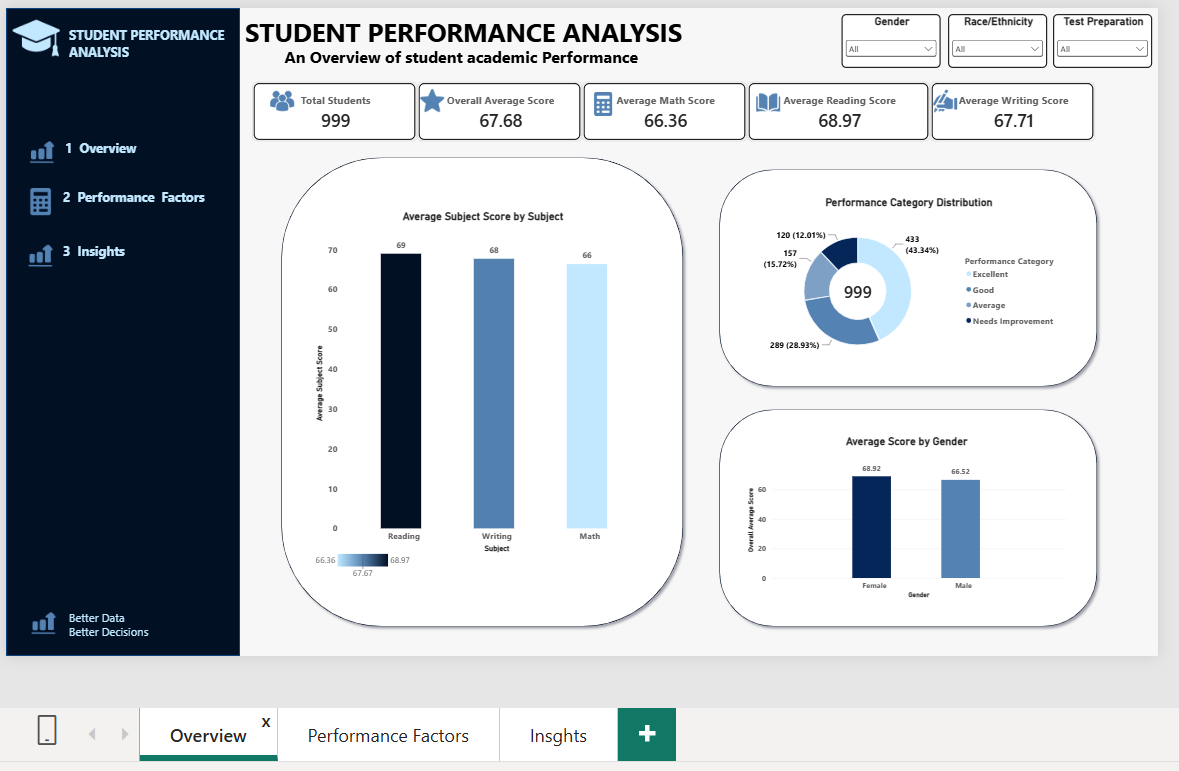

Layout of this report page (visuals, bound fields, positions):
{"tool":"powerbi","page":{"name":"Overview","canvas":[1920,1080],"ordinal":0},"visuals":[{"type":"shape","box":[1180.1,260,647.5,380],"z":0},{"type":"shape","box":[1180,660,647.5,380],"z":1000},{"type":"shape","box":[450,240,687.5,800],"z":2000},{"type":"cardVisual","fields":{"Data":["Students.Total Students"]},"box":[410,122.5,275,100],"z":3000},{"type":"cardVisual","fields":{"Data":["Students.Overall Average Score"]},"box":[685,122.5,275,100],"z":4000},{"type":"cardVisual","fields":{"Data":["Students.Average Math Score"]},"box":[960,122.5,275,100],"z":5000},{"type":"cardVisual","fields":{"Data":["Students.Average Reading Score"]},"box":[1235,122.5,305,100],"z":6000},{"type":"cardVisual","fields":{"Data":["Students.Average Writing Score"]},"box":[1540,122.5,275,100],"z":7000},{"type":"textbox","box":[290,0,945,122.5],"z":8000},{"type":"clusteredColumnChart","fields":{"Category":["Subjects.Subject"],"Y":["Students.Average Subject Score"]},"box":[500,322.5,590,642.5],"z":9000},{"type":"clusteredColumnChart","title":"Average Score by Gender","fields":{"Category":["Students.Gender"],"Y":["Students.Overall Average Score"]},"box":[1220,697.5,562.5,302.5],"z":10000},{"type":"donutChart","title":"Performance Category Distribution","fields":{"Category":["Students.Performance Category"],"Y":["Students.Total Students"]},"box":[1225,300,560,310],"z":11000},{"type":"shape","box":[0,0,390,1080],"z":12000},{"type":"image","box":[0,5,100,90],"z":13000},{"type":"textbox","box":[105,30,267.5,142.5],"z":14000},{"type":"slicer","title":"Gender","fields":{"Values":["Students.Gender"]},"box":[1392.5,10,165,90],"z":15000},{"type":"slicer","title":"Race/Ethnicity","fields":{"Values":["Students.Race/Ethnicity"]},"box":[1570,10,165,90],"z":16000},{"type":"slicer","title":"Test Preparation","fields":{"Values":["Students.Test Preparation Curse"]},"box":[1745,10,165,90],"z":17000},{"type":"textbox","box":[105,1002.5,267.5,57.5],"z":18000},{"type":"image","box":[15,300,85,45],"z":19000},{"type":"image","box":[27.5,217.5,65,45],"z":20000},{"type":"image","box":[30,1002.5,65,45],"z":21000},{"type":"image","box":[25,390,65,45],"z":22000},{"type":"textbox","box":[95,300,277.5,60],"z":23000},{"type":"textbox","box":[95,390,195,45],"z":24000},{"type":"textbox","box":[92.5,217.5,297.5,82.5],"z":25000},{"type":"image","box":[435,135,50,40],"z":25001},{"type":"image","box":[685,135,50,40],"z":25002},{"type":"image","box":[970,140,50,40],"z":25003},{"type":"image","box":[1540,135,50,40],"z":25004},{"type":"image","box":[1245,137.5,50,40],"z":25005}]}

Visuals, with their boxes on the page's 1920x1080 design canvas (x1, y1, x2, y2). These are canvas units, not pixel positions in the 1179x771 screenshot, which may show the page scaled, cropped or inside an application window:
shape: {"left": 1180, "top": 260, "right": 1828, "bottom": 640}
shape: {"left": 1180, "top": 660, "right": 1828, "bottom": 1040}
shape: {"left": 450, "top": 240, "right": 1138, "bottom": 1040}
cardVisual - Students.Total Students: {"left": 410, "top": 122, "right": 685, "bottom": 222}
cardVisual - Students.Overall Average Score: {"left": 685, "top": 122, "right": 960, "bottom": 222}
cardVisual - Students.Average Math Score: {"left": 960, "top": 122, "right": 1235, "bottom": 222}
cardVisual - Students.Average Reading Score: {"left": 1235, "top": 122, "right": 1540, "bottom": 222}
cardVisual - Students.Average Writing Score: {"left": 1540, "top": 122, "right": 1815, "bottom": 222}
textbox: {"left": 290, "top": 0, "right": 1235, "bottom": 122}
clusteredColumnChart - Subjects.Subject x Students.Average Subject Score: {"left": 500, "top": 322, "right": 1090, "bottom": 965}
"Average Score by Gender" clusteredColumnChart: {"left": 1220, "top": 698, "right": 1782, "bottom": 1000}
"Performance Category Distribution" donutChart: {"left": 1225, "top": 300, "right": 1785, "bottom": 610}
shape: {"left": 0, "top": 0, "right": 390, "bottom": 1080}
image: {"left": 0, "top": 5, "right": 100, "bottom": 95}
textbox: {"left": 105, "top": 30, "right": 372, "bottom": 172}
"Gender" slicer: {"left": 1392, "top": 10, "right": 1558, "bottom": 100}
"Race/Ethnicity" slicer: {"left": 1570, "top": 10, "right": 1735, "bottom": 100}
"Test Preparation" slicer: {"left": 1745, "top": 10, "right": 1910, "bottom": 100}
textbox: {"left": 105, "top": 1002, "right": 372, "bottom": 1060}
image: {"left": 15, "top": 300, "right": 100, "bottom": 345}
image: {"left": 28, "top": 218, "right": 92, "bottom": 262}
image: {"left": 30, "top": 1002, "right": 95, "bottom": 1048}
image: {"left": 25, "top": 390, "right": 90, "bottom": 435}
textbox: {"left": 95, "top": 300, "right": 372, "bottom": 360}
textbox: {"left": 95, "top": 390, "right": 290, "bottom": 435}
textbox: {"left": 92, "top": 218, "right": 390, "bottom": 300}
image: {"left": 435, "top": 135, "right": 485, "bottom": 175}
image: {"left": 685, "top": 135, "right": 735, "bottom": 175}
image: {"left": 970, "top": 140, "right": 1020, "bottom": 180}
image: {"left": 1540, "top": 135, "right": 1590, "bottom": 175}
image: {"left": 1245, "top": 138, "right": 1295, "bottom": 178}
